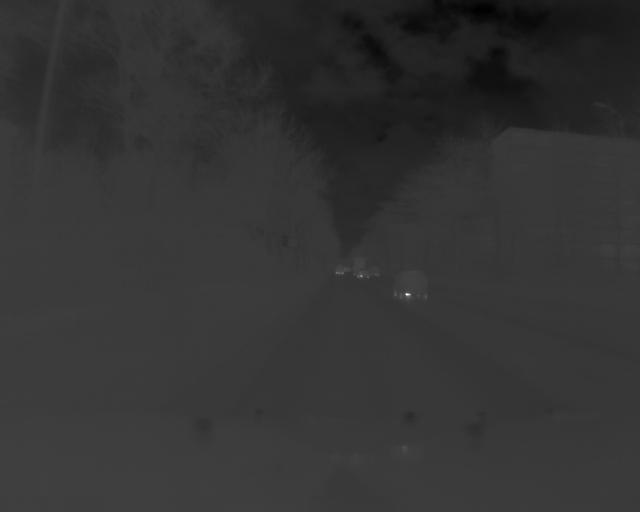car: (391, 267, 450, 308), (355, 259, 376, 281)
